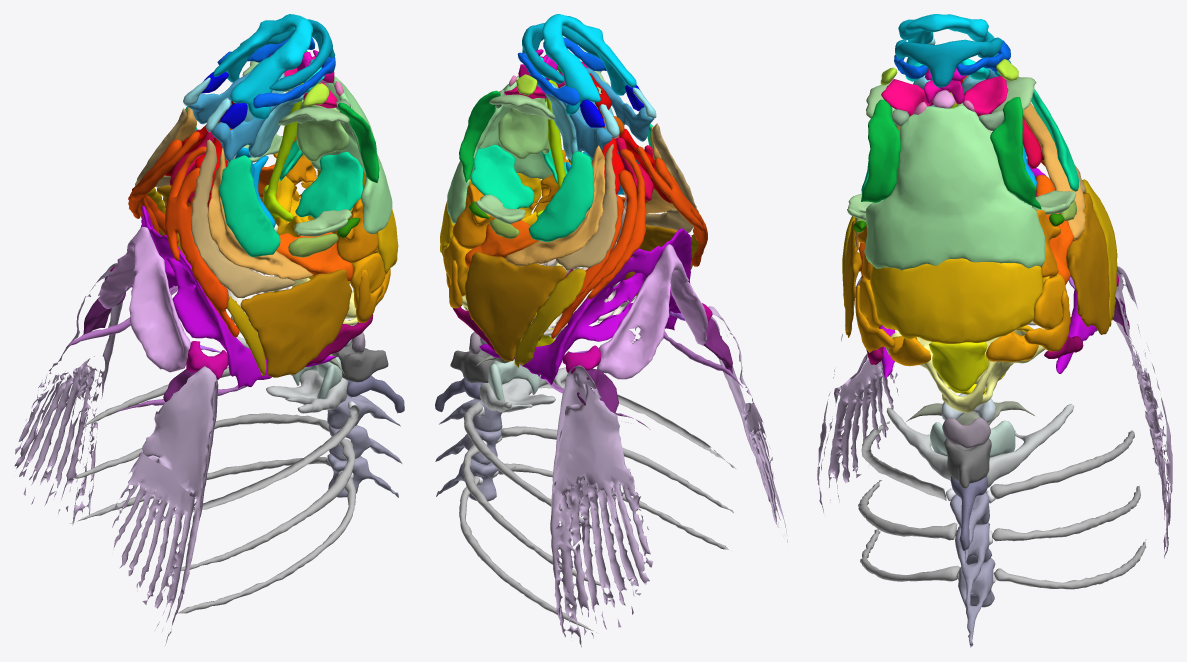
File: Whole_Skull.gltf
3 views of the same model, side by side, from view 1: azimuth 30°, elevation 25°; view 2: azimuth 150°, elevation 25°; view 3: azimuth 270°, elevation 25° (orthographic). The views are drawn at different scales.
Visible parts, largest first — view 1: Fin rays left, Opercle, Coracoid, Fin rays right, Cleithrum, Dentary, Interopercle, Left Brachiostegal rays, Infraorbital 3, Pteroshenoid, Preopercle, Frontal (+38 smaller); view 2: Fin rays right, Opercle, Coracoid, Cleithrum, Dentary, Interopercle, Preopercle, Infraorbital 3, Pteroshenoid, Fin rays left, Frontal, Subopercle (+37 smaller); view 3: Frontal, parietal, Supraorbital, Opercle, Fin rays left, Fin rays right, os suspensorium and rib, Premxilla, Sclerotics, lateral ethmoid?, Supraoccipital, Exoccipital (+31 smaller).
Boxes of the visible parts, left/top/right/bottom form: Fin rays left: left=112, top=366, right=218, bottom=645; Opercle: left=157, top=185, right=351, bottom=377; Coracoid: left=98, top=226, right=190, bottom=372; Fin rays right: left=14, top=263, right=122, bottom=525; Cleithrum: left=140, top=205, right=338, bottom=388; Dentary: left=213, top=14, right=312, bottom=119; Interopercle: left=135, top=108, right=295, bottom=298; Left Brachiostegal rays: left=165, top=146, right=239, bottom=337; Infraorbital 3: left=185, top=106, right=280, bottom=256; Pteroshenoid: left=279, top=140, right=363, bottom=218; Preopercle: left=173, top=107, right=313, bottom=280; Frontal: left=311, top=76, right=392, bottom=234; Fin rays right: left=550, top=365, right=653, bottom=647; Opercle: left=465, top=225, right=676, bottom=361; Coracoid: left=597, top=244, right=707, bottom=379; Cleithrum: left=479, top=228, right=691, bottom=384; Dentary: left=542, top=14, right=636, bottom=115; Interopercle: left=556, top=123, right=698, bottom=270; Preopercle: left=505, top=126, right=676, bottom=266; Infraorbital 3: left=528, top=123, right=653, bottom=241; Pteroshenoid: left=470, top=144, right=567, bottom=208; Fin rays left: left=708, top=306, right=787, bottom=542; Frontal: left=447, top=76, right=552, bottom=223; Subopercle: left=514, top=234, right=698, bottom=367; Frontal: left=864, top=105, right=1045, bottom=270; parietal: left=870, top=258, right=1043, bottom=343; Supraorbital: left=861, top=97, right=1041, bottom=209; Opercle: left=843, top=193, right=1110, bottom=337; Fin rays left: left=817, top=276, right=898, bottom=512; Fin rays right: left=1115, top=266, right=1172, bottom=558; os suspensorium and rib: left=886, top=403, right=1074, bottom=487; Premxilla: left=895, top=37, right=1002, bottom=87; Sclerotics: left=847, top=76, right=1076, bottom=220; lateral ethmoid?: left=881, top=75, right=1008, bottom=116; Supraoccipital: left=929, top=342, right=988, bottom=392; Exoccipital: left=886, top=329, right=1045, bottom=412.
Size of the model in its own units: 0.2076 by 0.3369 by 0.178.
